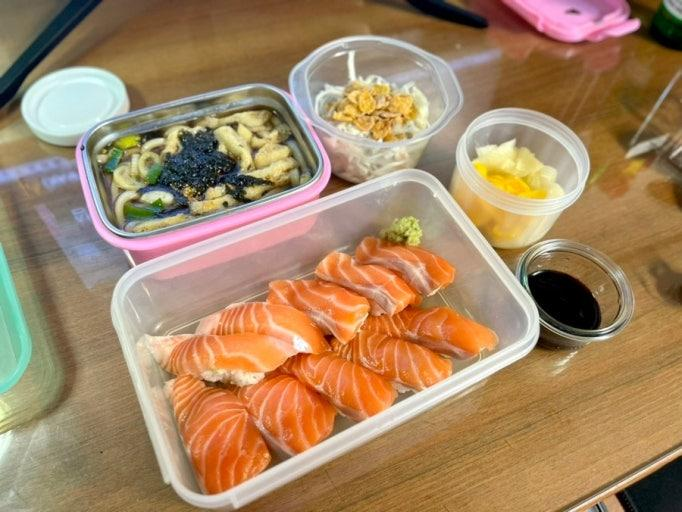Lunch Box: (112, 170, 538, 509), (76, 84, 330, 280), (289, 36, 462, 182), (449, 108, 589, 248), (0, 228, 63, 433), (21, 66, 129, 146), (501, 0, 639, 42)
cup: (515, 239, 634, 348)
